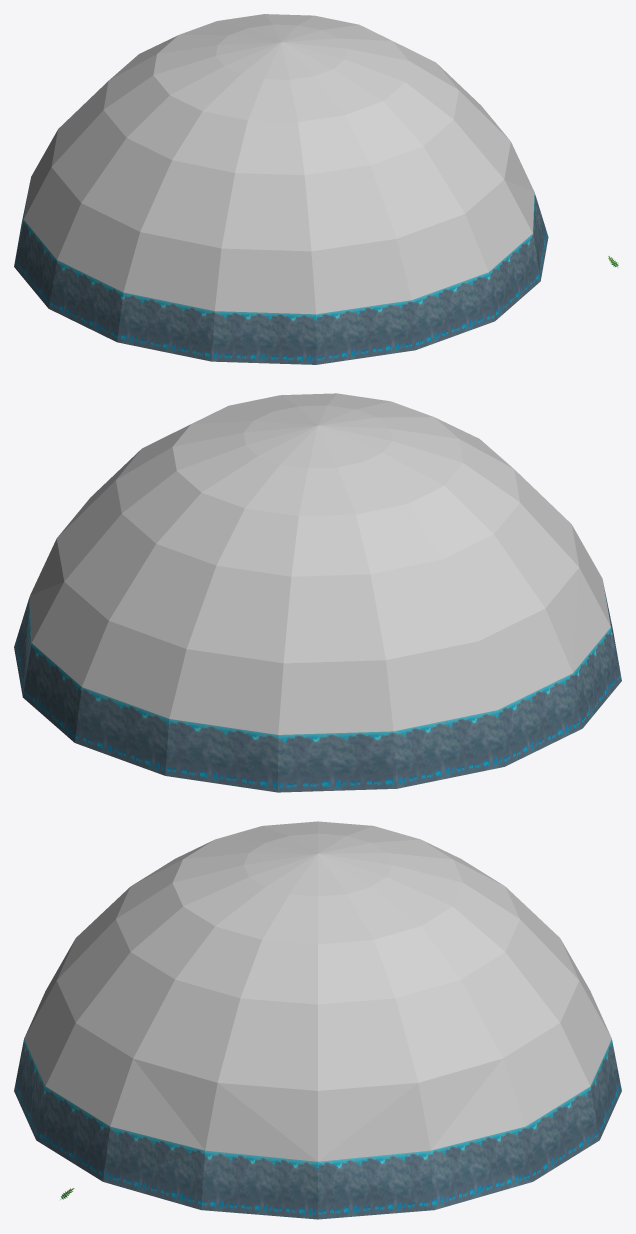
File: scenario.obj
3 views of the same model, one above another, from view 1: azimuth 30°, elevation 25°; view 2: azimuth 150°, elevation 25°; view 3: azimuth 270°, elevation 25° (orthographic). The views are drawn at different scales.
Parts seen in each view (by area): view 1: vsn_mesh_4_mesh4, vsn_mesh_5_mesh5; view 2: vsn_mesh_4_mesh4, vsn_mesh_5_mesh5; view 3: vsn_mesh_4_mesh4, vsn_mesh_5_mesh5.
Boxes of the visible parts, x1,y1,x2,y2 form: vsn_mesh_4_mesh4: [23, 14, 534, 314]; vsn_mesh_5_mesh5: [14, 183, 548, 364]; vsn_mesh_4_mesh4: [29, 393, 610, 734]; vsn_mesh_5_mesh5: [14, 583, 621, 792]; vsn_mesh_4_mesh4: [24, 821, 611, 1161]; vsn_mesh_5_mesh5: [14, 1039, 621, 1219].
Size of the model in its own units: 4400 by 1932 by 4400.
